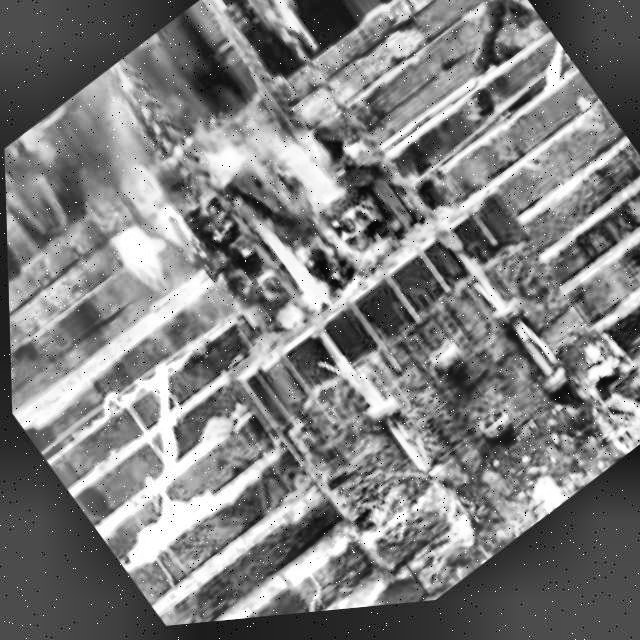Fire: (186, 87, 395, 338)
